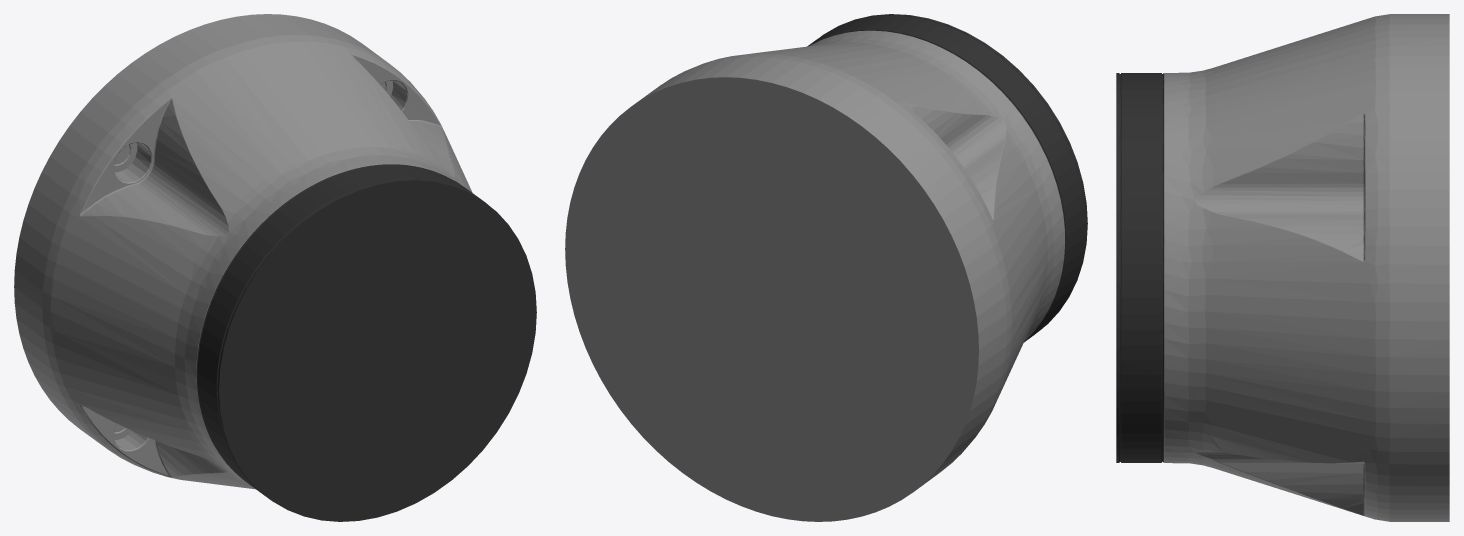
3 views of the same model, side by side, from view 1: azimuth 30°, elevation 25°; view 2: azimuth 150°, elevation 25°; view 3: azimuth 270°, elevation 25° (orthographic). The views are drawn at different scales.
Parts seen in each view (by area): view 1: world; view 2: world; view 3: world.
Part boxes in pixels (bbox=[...]): world: bbox=[14, 14, 536, 521]; world: bbox=[565, 14, 1087, 521]; world: bbox=[1116, 14, 1449, 521].
Bounding box in the file's own units: 0.151 × 0.151 × 0.0991.
1 material, 1 textured.
